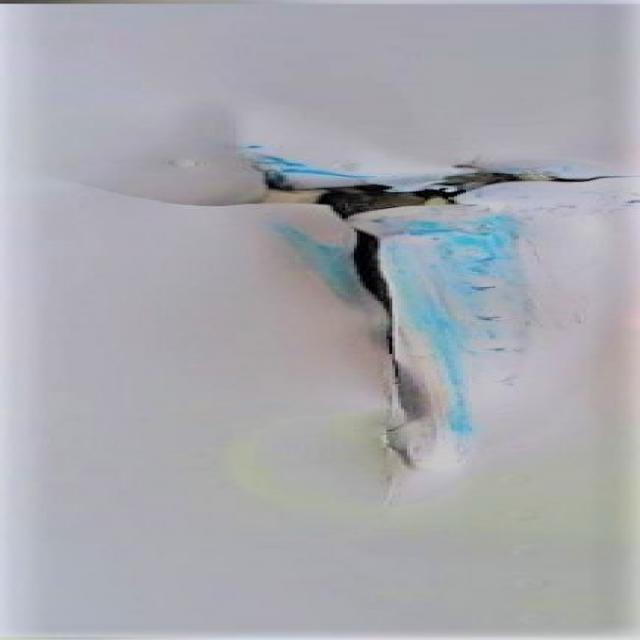crack: (113, 129, 626, 490)
